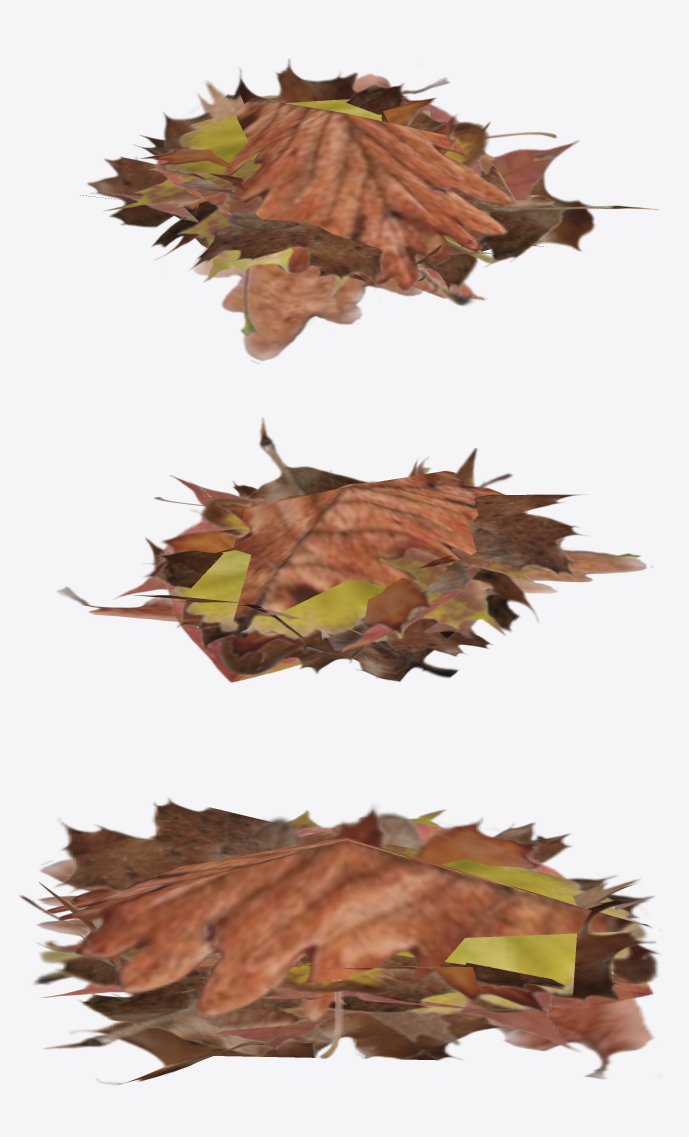
File: Leaves.glb
3 renders of one model, top to bottom at view 1: azimuth 30°, elevation 25°; view 2: azimuth 150°, elevation 25°; view 3: azimuth 270°, elevation 25°, orthographic. The views are drawn at different scales.
Visible parts, largest first — view 1: leaf_8, leaf_10, leaf_4, leaf_11, leaf_5, leaf_1, leaf_2, leaf_3, leaf_9, leaf_12, leaf_7; view 2: leaf_8, leaf_10, leaf_1, leaf_9, leaf_3, leaf_5, leaf_11, leaf_4, leaf_12, leaf_2; view 3: leaf_8, leaf_10, leaf_11, leaf_1, leaf_4, leaf_9, leaf_3, leaf_2, leaf_12, leaf_7, leaf_5.
Boxes of the visible parts, x1,y1,x2,y2 form: leaf_8: [224, 94, 513, 290]; leaf_10: [86, 82, 659, 292]; leaf_4: [185, 73, 489, 363]; leaf_11: [80, 59, 595, 284]; leaf_5: [104, 132, 557, 296]; leaf_1: [165, 95, 498, 263]; leaf_2: [108, 93, 579, 335]; leaf_3: [159, 100, 490, 305]; leaf_9: [139, 97, 457, 293]; leaf_12: [154, 104, 486, 300]; leaf_7: [170, 80, 427, 281]; leaf_8: [232, 471, 505, 638]; leaf_10: [152, 417, 588, 674]; leaf_1: [170, 467, 431, 638]; leaf_9: [143, 501, 457, 660]; leaf_3: [152, 497, 513, 675]; leaf_5: [154, 497, 587, 639]; leaf_11: [133, 448, 484, 681]; leaf_4: [57, 481, 646, 621]; leaf_12: [159, 516, 491, 682]; leaf_2: [112, 457, 641, 641]; leaf_8: [43, 837, 652, 1021]; leaf_10: [43, 797, 654, 1056]; leaf_11: [39, 834, 655, 1085]; leaf_1: [39, 858, 647, 1013]; leaf_4: [37, 859, 654, 1079]; leaf_9: [43, 805, 659, 1014]; leaf_3: [34, 812, 658, 1013]; leaf_2: [36, 818, 652, 1052]; leaf_12: [41, 821, 654, 1009]; leaf_7: [19, 879, 640, 1045]; leaf_5: [286, 809, 448, 1058].
Bounding box in the file's own units: 0.1039 × 0.0271 × 0.1046.
Materials: 11 (11 with a texture image).
